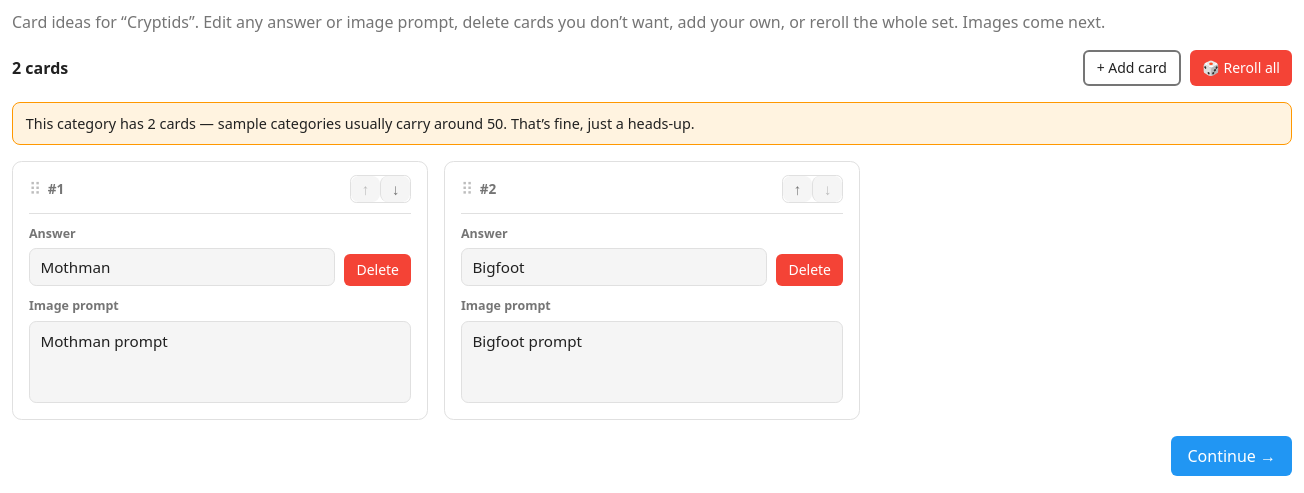
CardsStep › deleting all cards does NOT retrigger generation
The image size is (1304, 493).
Check: the 1st field showing "Mothman" is shown, box 29,248 -> 335,286
// Delete every card so the list becomes empty.
Step 1. Click the button with aria-label "Delete Mothman" → coordinates (378, 270), box 344,254 -> 411,286
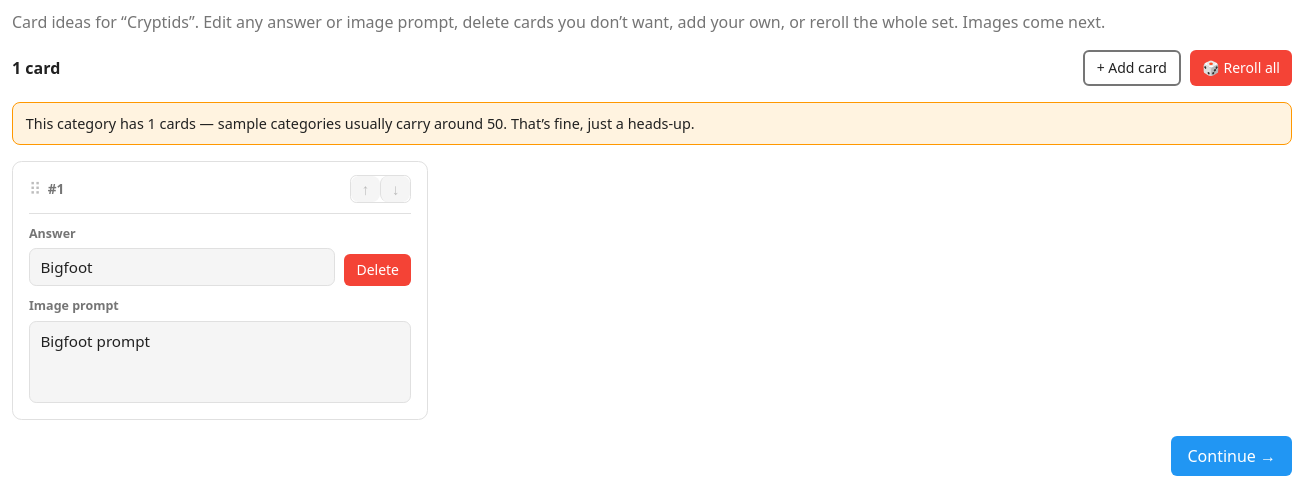
Step 2. Click the button with aria-label "Delete Bigfoot" → coordinates (378, 270), box 344,254 -> 411,286
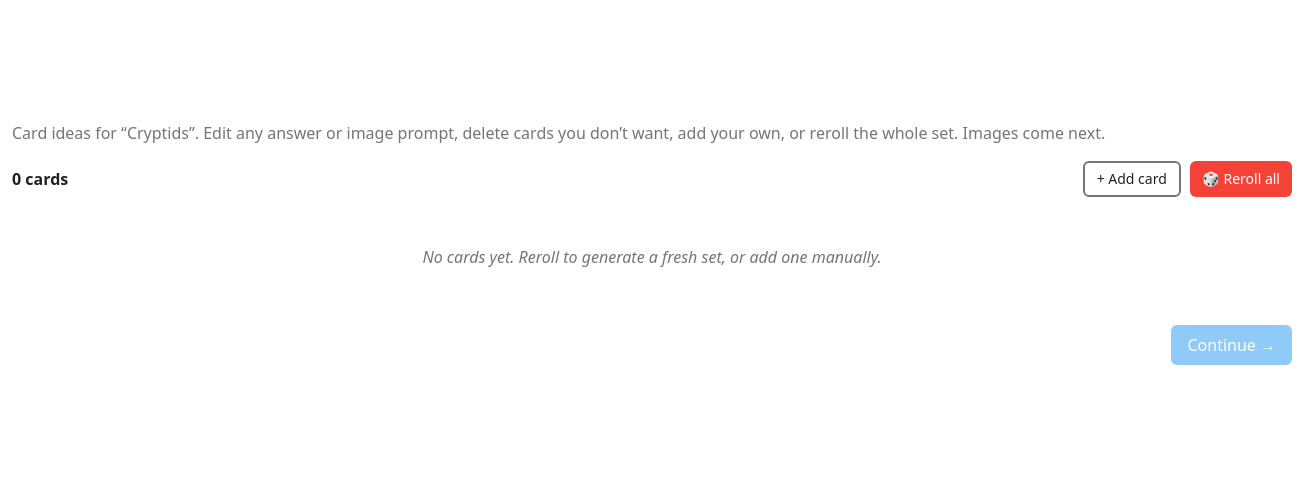
Check: the text "No cards yet" is shown, box 422,246 -> 882,268
